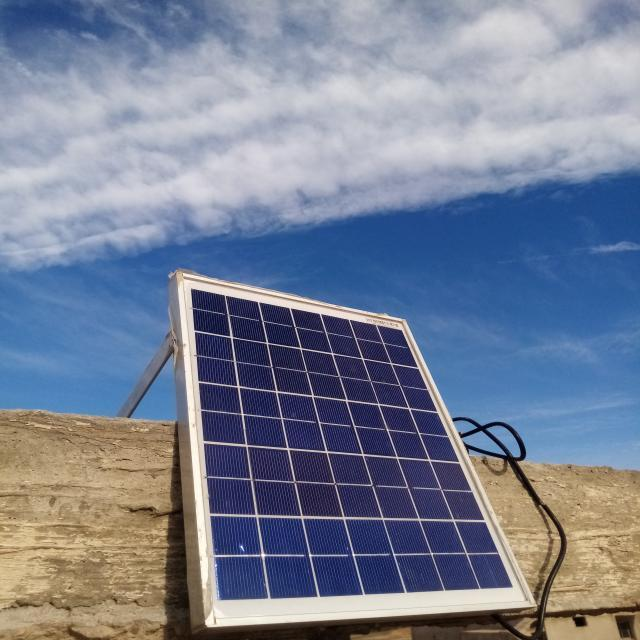no faulty: (178, 282, 527, 629)
